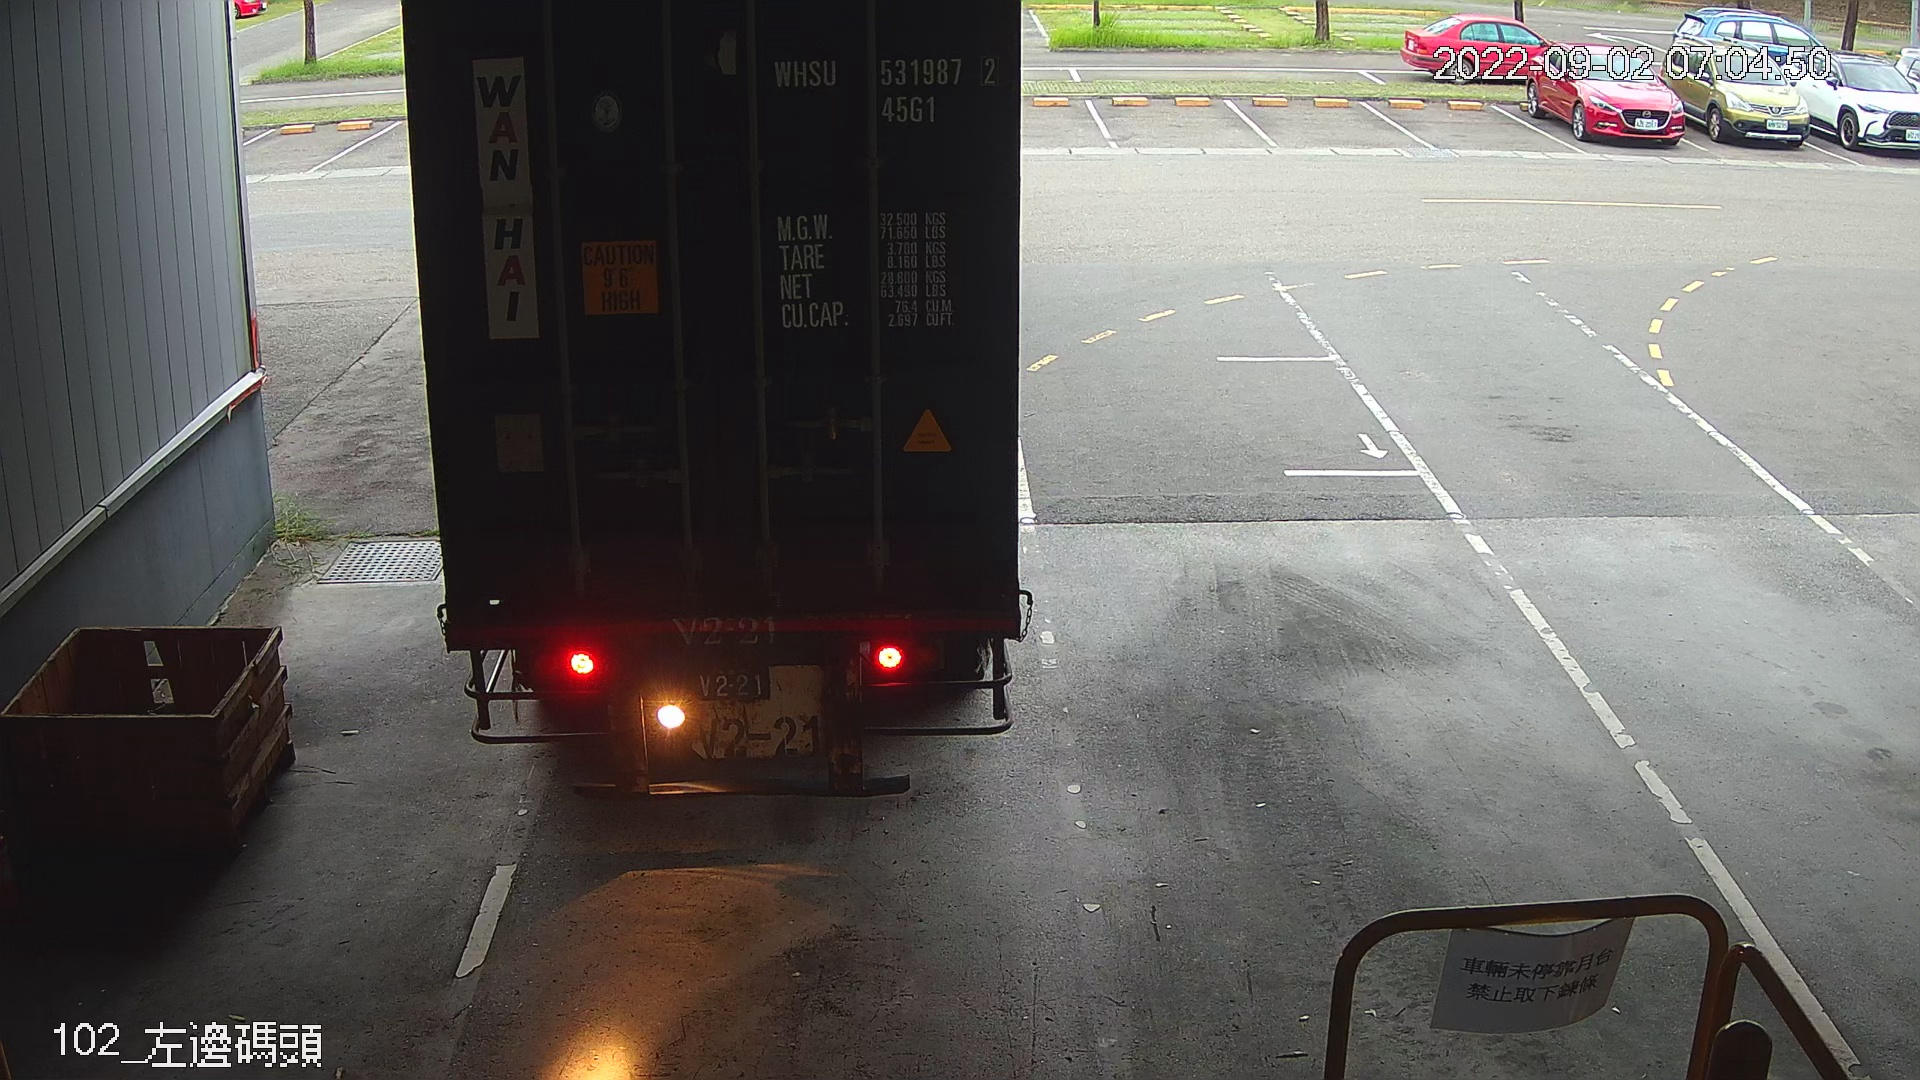container: (764, 45, 1009, 132)
